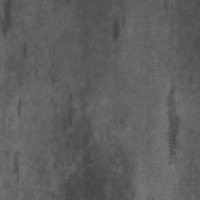inclusion: (56, 109, 129, 197), (160, 79, 183, 169), (108, 15, 130, 47), (11, 150, 29, 189), (1, 1, 18, 37)
